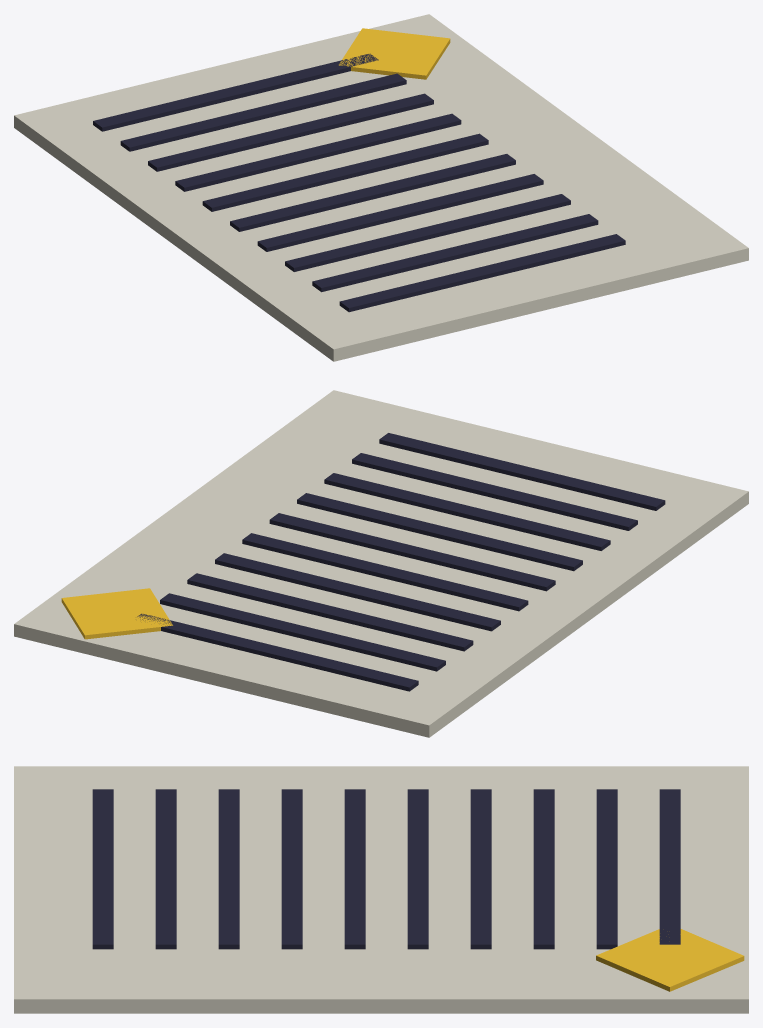
The model's file is karaoke_winners_list.glb.
3 views of the same model, one above another, from view 1: azimuth 30°, elevation 25°; view 2: azimuth 150°, elevation 25°; view 3: azimuth 270°, elevation 25° (orthographic). The views are drawn at different scales.
Parts seen in each view (by area): view 1: paper_winners_paper, lines_winners_ink (×10), star_winners_gold; view 2: paper_winners_paper, lines_winners_ink (×10), star_winners_gold; view 3: paper_winners_paper, lines_winners_ink (×10), star_winners_gold.
Boxes of the visible parts, bbox=[...] form: paper_winners_paper: bbox=[14, 14, 748, 361]; lines_winners_ink (×10): bbox=[93, 53, 625, 312]; star_winners_gold: bbox=[339, 28, 450, 79]; paper_winners_paper: bbox=[14, 390, 748, 737]; lines_winners_ink (×10): bbox=[137, 433, 665, 691]; star_winners_gold: bbox=[61, 588, 172, 639]; paper_winners_paper: bbox=[14, 766, 748, 1013]; lines_winners_ink (×10): bbox=[92, 789, 680, 949]; star_winners_gold: bbox=[596, 929, 744, 991].
Bounding box in the file's own units: 0.21 × 0.008 × 0.28.
